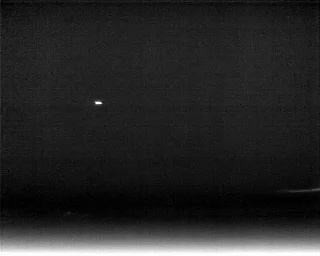AIRPLANE: (93, 98, 104, 107)
